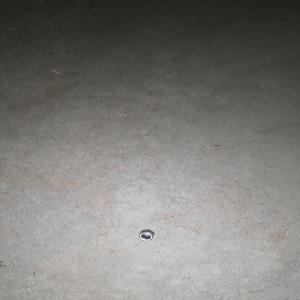Nut: (137, 230, 154, 241)
